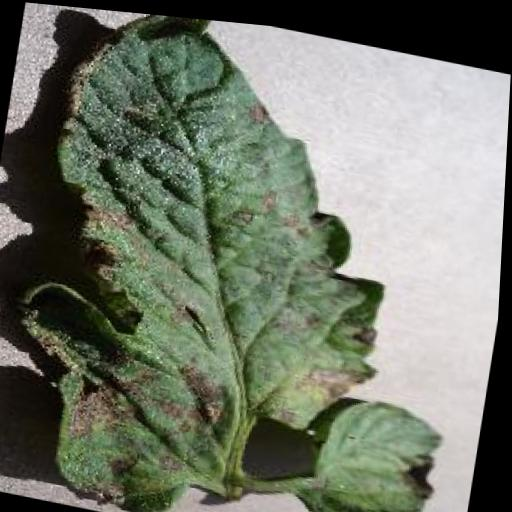Early Blight: (1, 2, 501, 512)
